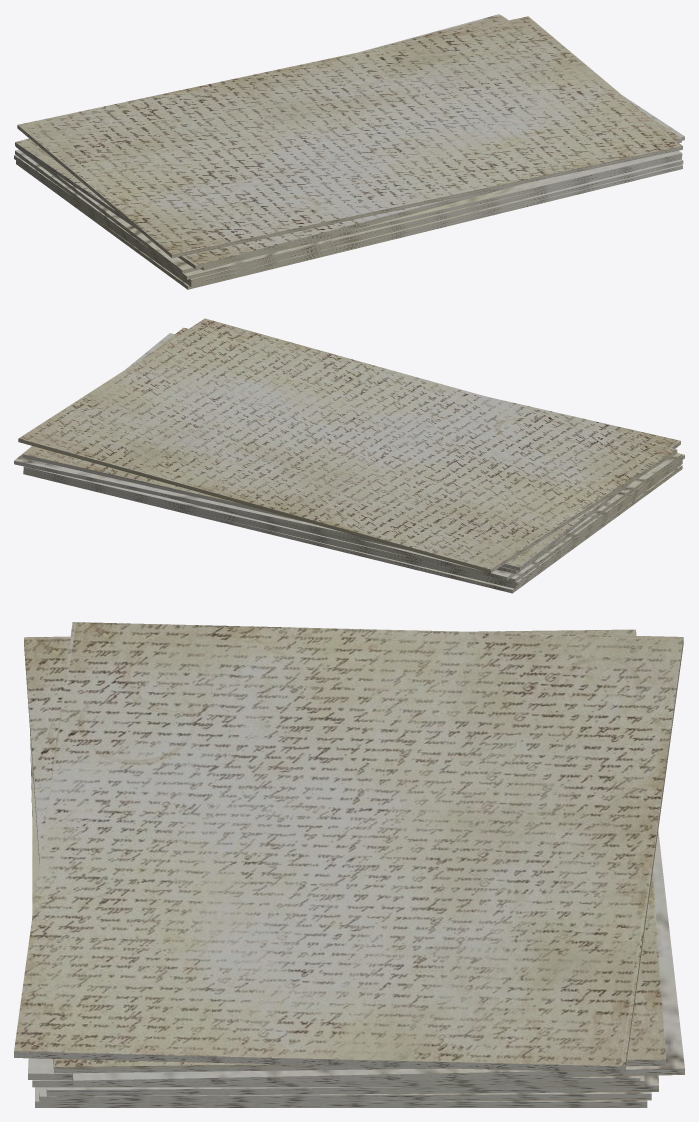
The model's file is StopkaBumagPervaya.fbx.
The picture shows the model from 3 angles, top to bottom: view 1: azimuth 30°, elevation 25°; view 2: azimuth 150°, elevation 25°; view 3: azimuth 270°, elevation 25°; orthographic projection. The views are drawn at different scales.
Parts seen in each view (by area): view 1: Cube.007, Cube.006, Cube.004, Cube.003, Cube.001, Cube, Cube.002, Cube.005; view 2: Cube.007, Cube.006, Cube.002, Cube, Cube.005, Cube.004, Cube.001, Cube.003; view 3: Cube.007, Cube.006, Cube.005, Cube.001, Cube.002, Cube, Cube.003, Cube.004.
Boxes of the visible parts, x1=… form: Cube.007: x1=17, y1=16, x2=682, y2=258; Cube.006: x1=15, y1=15, x2=681, y2=269; Cube.004: x1=15, y1=146, x2=682, y2=273; Cube.003: x1=15, y1=149, x2=681, y2=279; Cube.001: x1=16, y1=159, x2=683, y2=286; Cube: x1=16, y1=160, x2=682, y2=289; Cube.002: x1=14, y1=155, x2=630, y2=283; Cube.005: x1=18, y1=14, x2=684, y2=270; Cube.007: x1=18, y1=318, x2=677, y2=572; Cube.006: x1=22, y1=327, x2=680, y2=570; Cube.002: x1=23, y1=460, x2=682, y2=585; Cube: x1=23, y1=465, x2=682, y2=593; Cube.005: x1=14, y1=333, x2=519, y2=573; Cube.004: x1=260, y1=453, x2=682, y2=580; Cube.001: x1=23, y1=460, x2=682, y2=588; Cube.003: x1=167, y1=454, x2=684, y2=582; Cube.007: x1=14, y1=622, x2=683, y2=1072; Cube.006: x1=24, y1=629, x2=665, y2=1073; Cube.005: x1=72, y1=831, x2=684, y2=1086; Cube.001: x1=30, y1=732, x2=651, y2=1102; Cube.002: x1=46, y1=1075, x2=658, y2=1096; Cube: x1=35, y1=1087, x2=647, y2=1107; Cube.003: x1=32, y1=765, x2=644, y2=1087; Cube.004: x1=28, y1=841, x2=640, y2=1084.
Size of the model in its own units: 384 by 20.51 by 244.
Materials: 2 (2 with a texture image).
